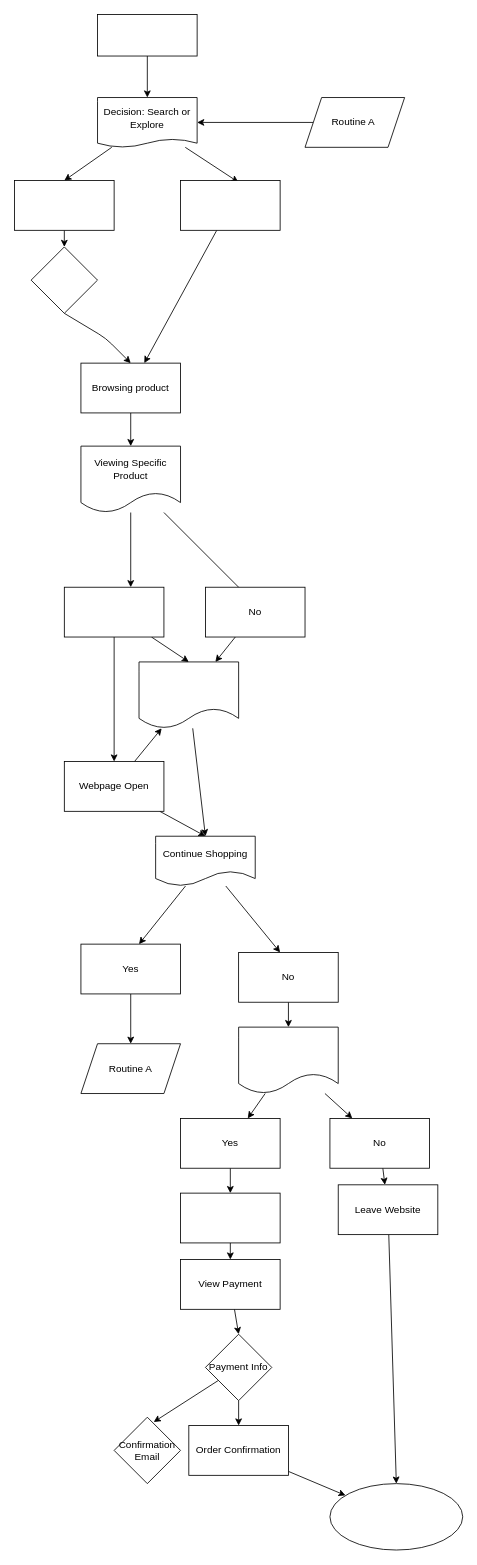
Some shapes in this 477 by 1565 pixel diagram are drawn without their labels. The shapes that lost their labels are listed below. From the top down, each one's centre as x and y in pixels, then its label:
At (x=147, y=35): "Enter".
At (x=64, y=205): "Search".
At (x=230, y=205): "Explore".
At (x=64, y=279): "Input: Search".
At (x=113, y=611): "View".
At (x=188, y=694): "Add to cart or no".
At (x=288, y=1060): "Check Out or no".
At (x=230, y=1217): "View Cart Screen".
At (x=396, y=1516): "Terminate".
